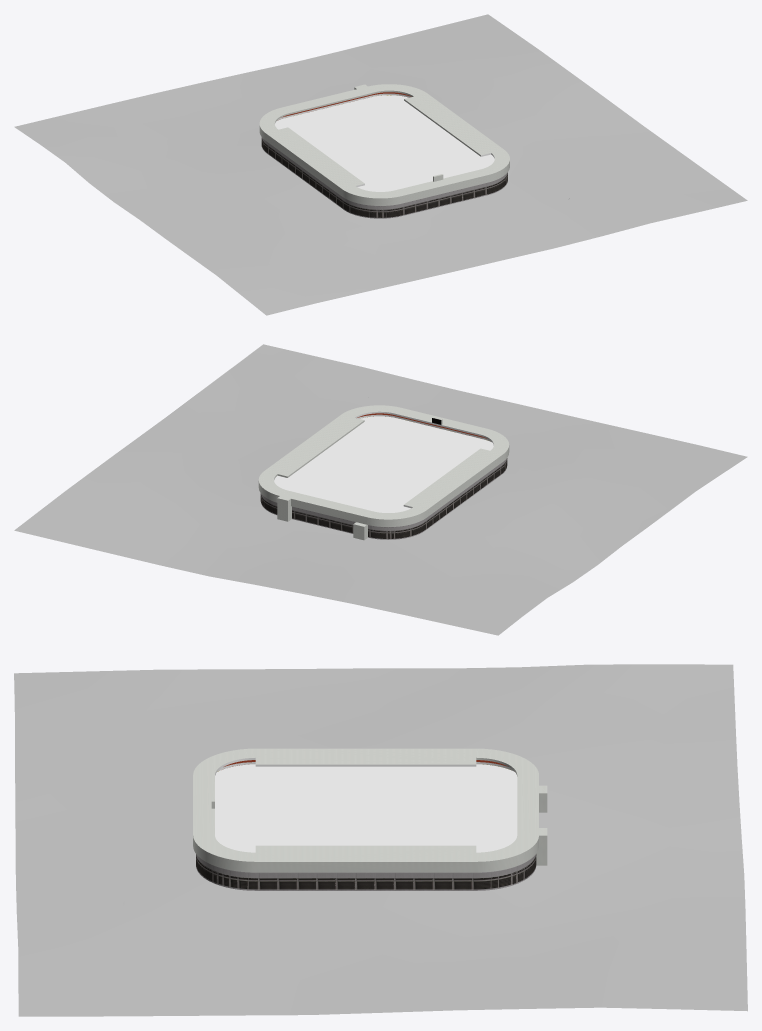
Rendered from 3_de_marzo.fbx.
The picture shows the model from 3 angles, top to bottom: view 1: azimuth 30°, elevation 25°; view 2: azimuth 150°, elevation 25°; view 3: azimuth 270°, elevation 25°; orthographic projection. The views are drawn at different scales.
Parts seen in each view (by area): view 1: Google_Earth_Terrain, jhjhj1; view 2: Google_Earth_Terrain, jhjhj1; view 3: Google_Earth_Terrain, jhjhj1.
Part boxes in pixels (bbox=[...]): Google_Earth_Terrain: bbox=[14, 14, 747, 315]; jhjhj1: bbox=[259, 84, 509, 218]; Google_Earth_Terrain: bbox=[14, 344, 747, 635]; jhjhj1: bbox=[258, 405, 509, 540]; Google_Earth_Terrain: bbox=[14, 664, 747, 1016]; jhjhj1: bbox=[193, 748, 547, 890].
Size of the model in its own units: 412 by 28.16 by 378.
